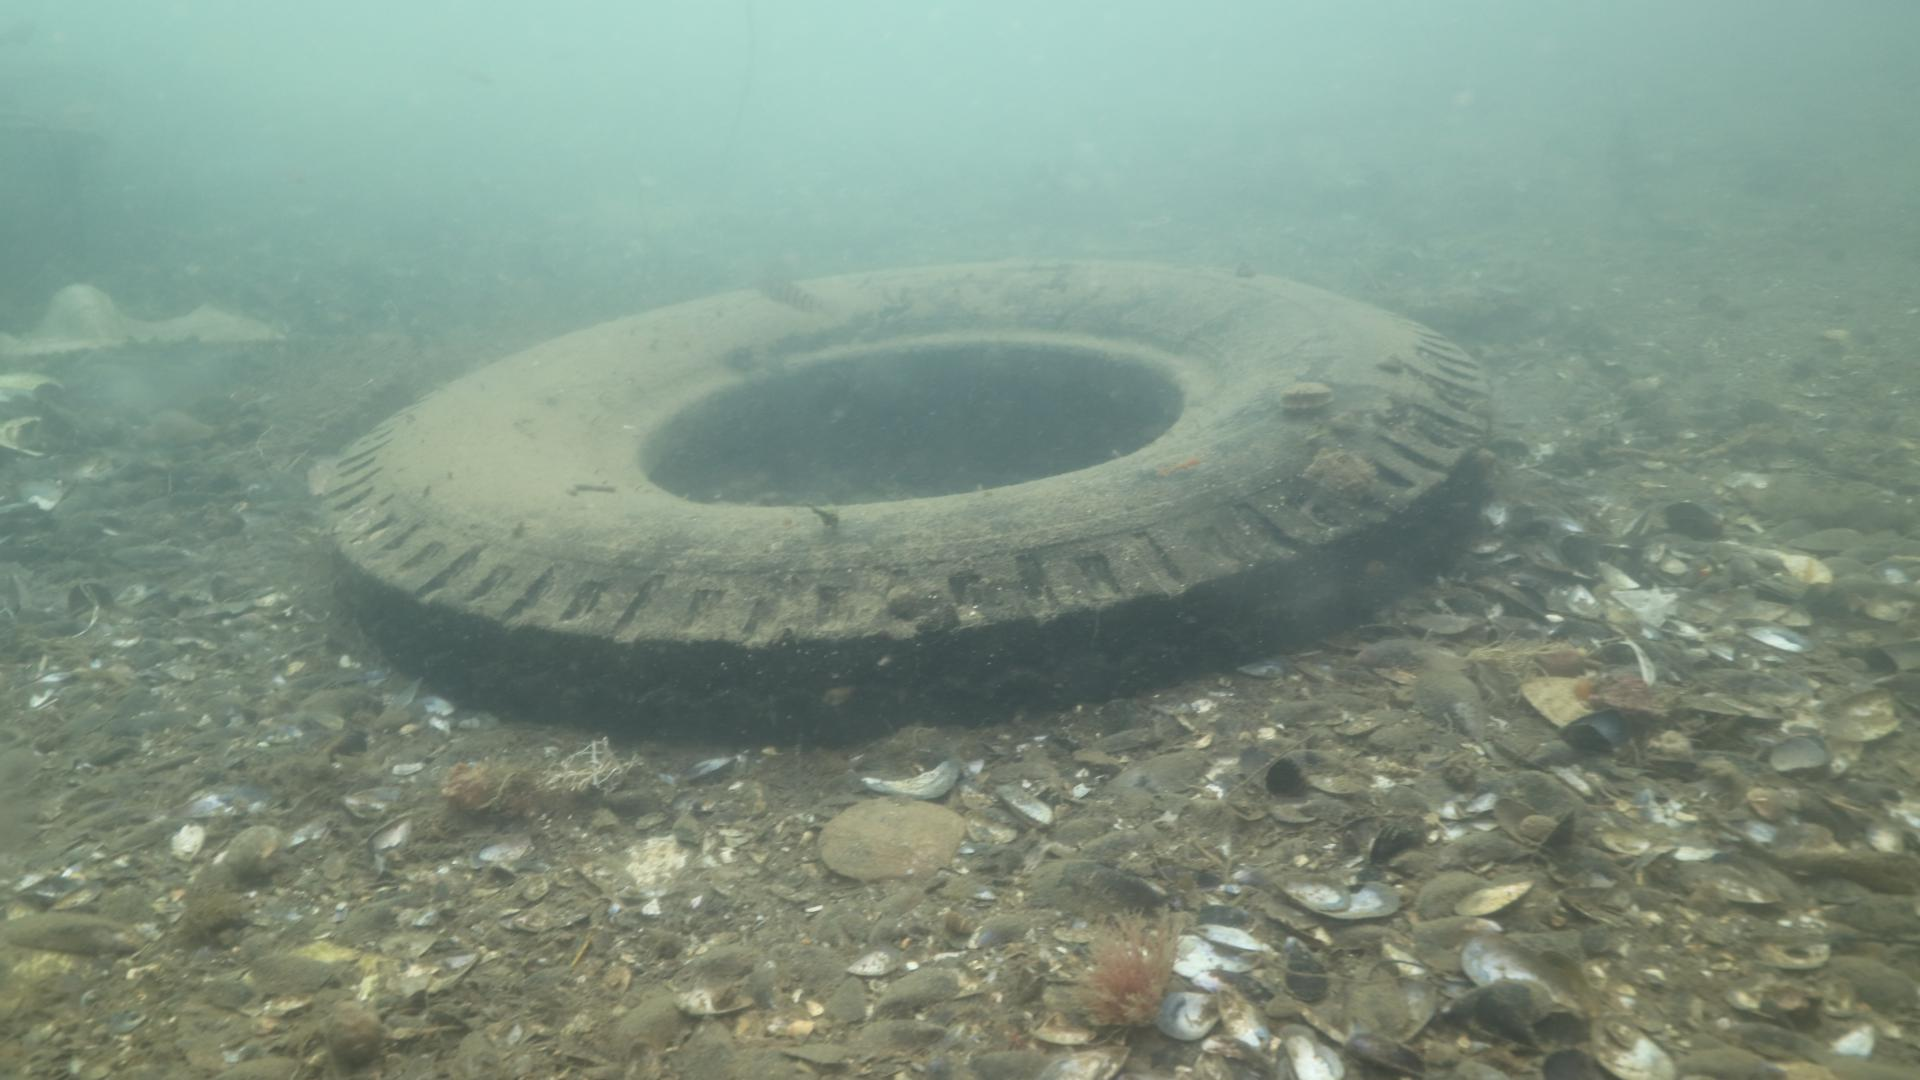tire: (305, 252, 1502, 742)
